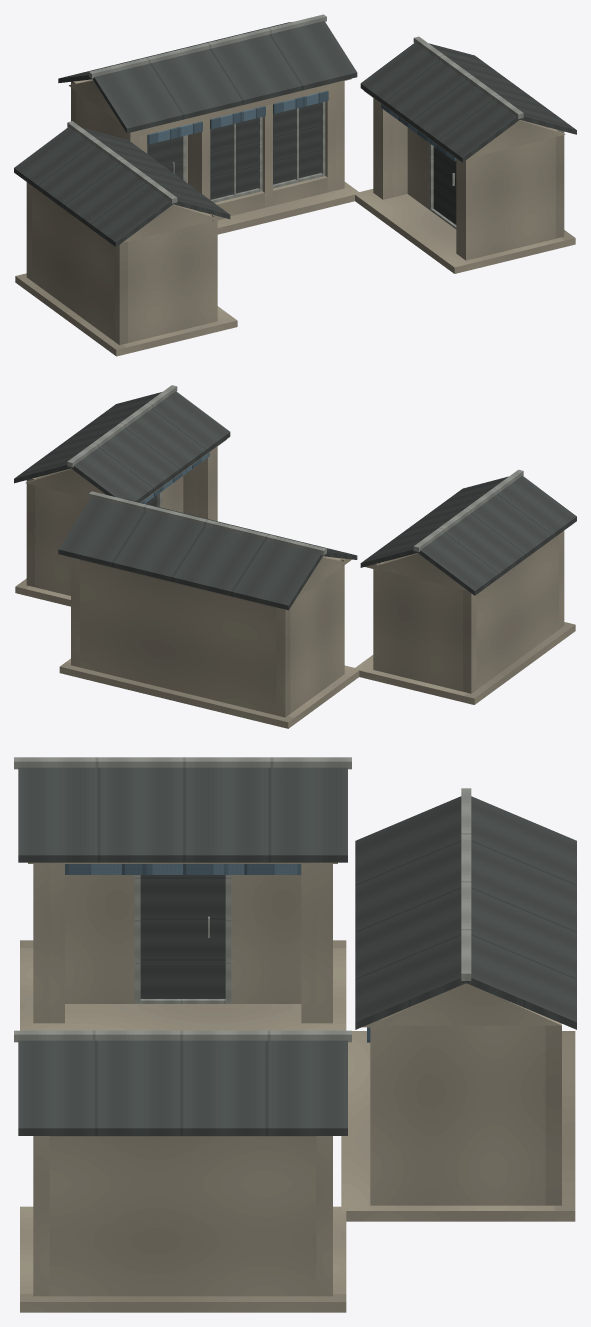
3 views of the same model, one above another, from view 1: azimuth 30°, elevation 25°; view 2: azimuth 150°, elevation 25°; view 3: azimuth 270°, elevation 25° (orthographic). The views are drawn at different scales.
Parts seen in each view (by area): view 1: amsterdam; view 2: amsterdam; view 3: amsterdam.
Part boxes in pixels (<box>): amsterdam: <box>14,14,576,356</box>; amsterdam: <box>14,385,576,728</box>; amsterdam: <box>14,757,576,1312</box>.
Size of the model in its own units: 8.6 by 2.77 by 5.63.
1 material, 1 textured.
